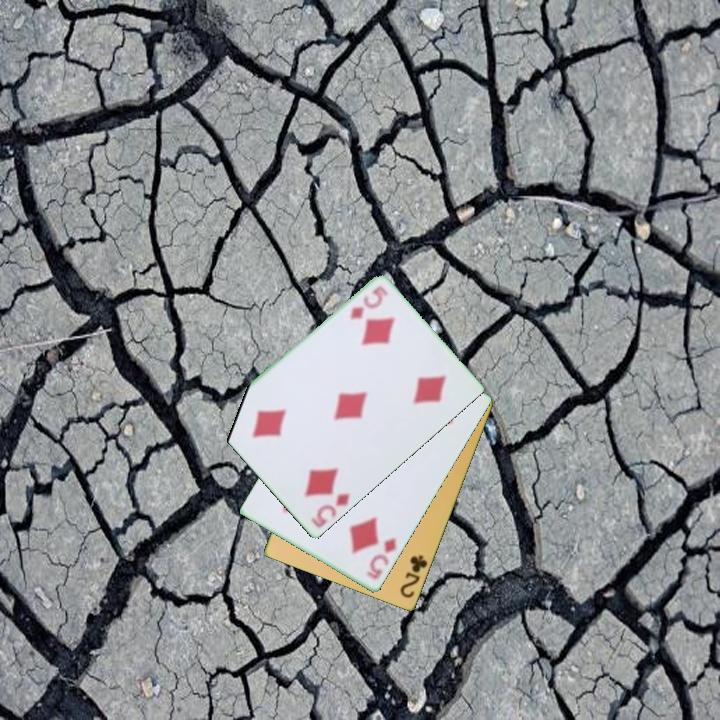2c: (397, 552, 430, 601)
5d: (307, 490, 352, 532), (346, 282, 390, 323), (363, 535, 400, 583)
